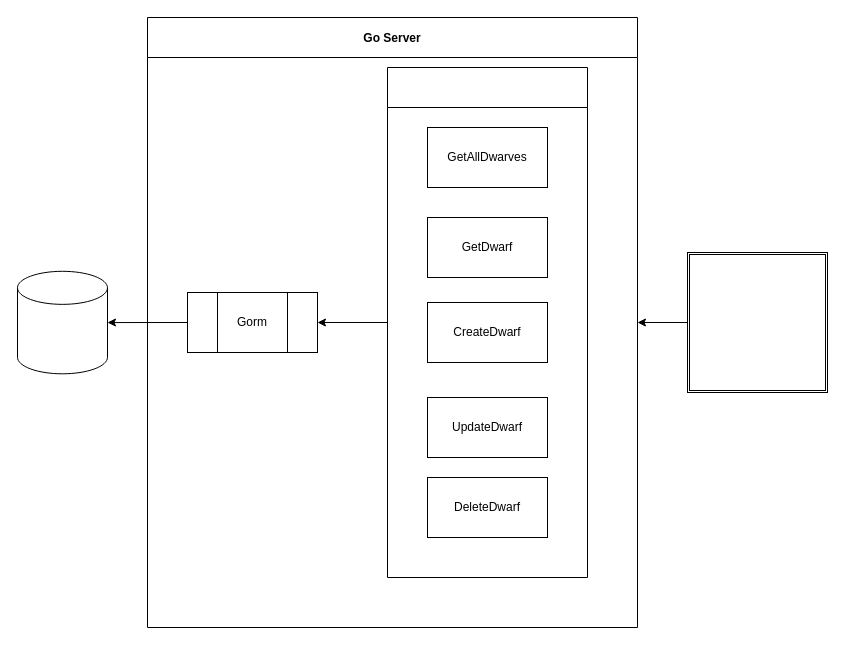
Image size: 845x645. Some labels were removed from this diagram. The box of each missing label's shape, as (x1, y1, x2, y2) in pixels:
Apis: (386, 66, 588, 578)
Postgreql: (16, 270, 108, 374)
Svelte Application: (686, 252, 828, 392)
